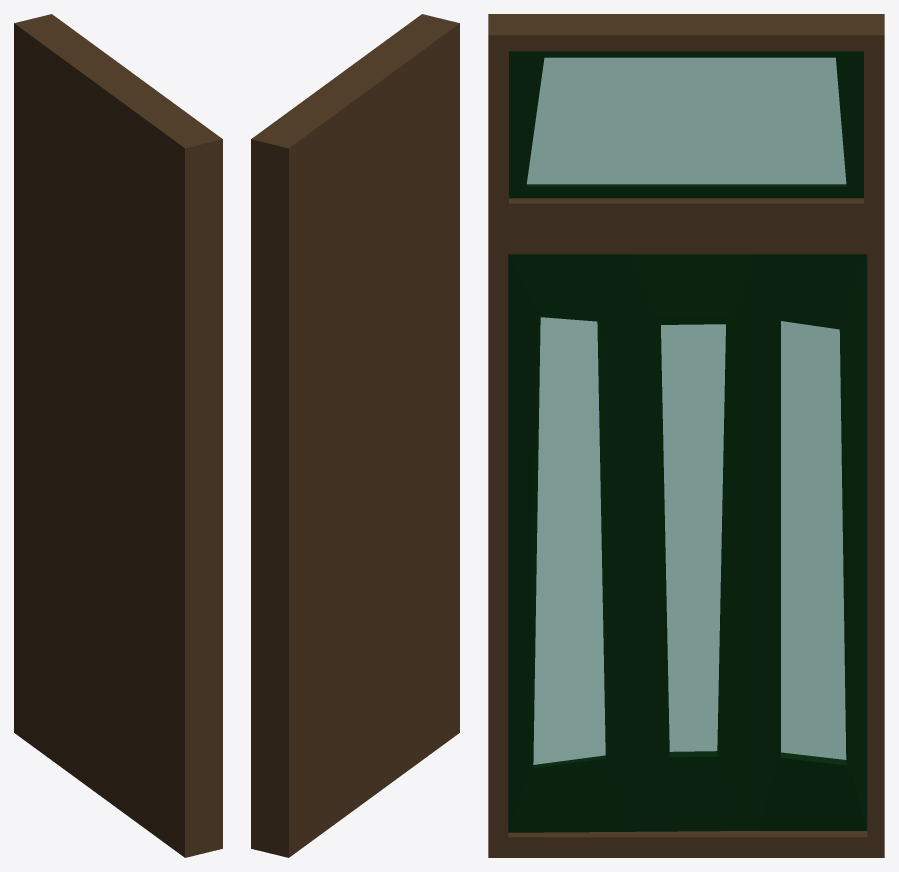
File: Door11.fbx
3 views of the same model, side by side, from view 1: azimuth 30°, elevation 25°; view 2: azimuth 150°, elevation 25°; view 3: azimuth 270°, elevation 25° (orthographic). The views are drawn at different scales.
Parts seen in each view (by area): view 1: Cube.048; view 2: Cube.048; view 3: Cube.048.
Part boxes in pixels (x1,y1,x2,y2): Cube.048: (14, 14, 222, 857); Cube.048: (251, 14, 459, 857); Cube.048: (488, 14, 884, 857).
Size of the model in its own units: 14.57 by 261 by 114.
